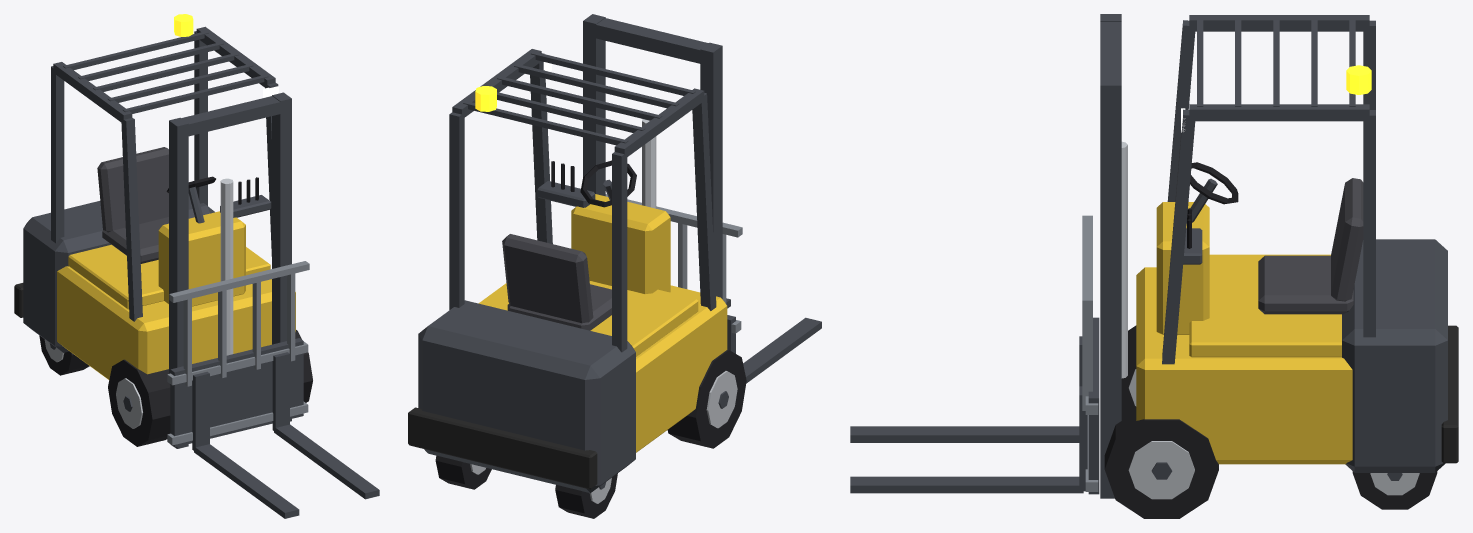
The model's file is Forklift_Electric_Market.glb.
3 renders of one model, left to right at view 1: azimuth 30°, elevation 25°; view 2: azimuth 150°, elevation 25°; view 3: azimuth 270°, elevation 25°, orthographic. The views are drawn at different scales.
Visible parts, largest first — view 1: Forklift_Electric_Market, Forklift_Electric_Market_Fork; view 2: Forklift_Electric_Market, Forklift_Electric_Market_Fork; view 3: Forklift_Electric_Market, Forklift_Electric_Market_Fork.
Boxes of the visible parts, x1,y1,x2,y2 form: Forklift_Electric_Market: (14, 14, 312, 448); Forklift_Electric_Market_Fork: (167, 261, 379, 518); Forklift_Electric_Market: (408, 14, 746, 518); Forklift_Electric_Market_Fork: (605, 194, 821, 383); Forklift_Electric_Market: (1100, 14, 1458, 518); Forklift_Electric_Market_Fork: (850, 215, 1099, 494).
Bounding box in the file's own units: 1.16 × 2.24 × 2.87.
Materials: 1 (1 with a texture image).
